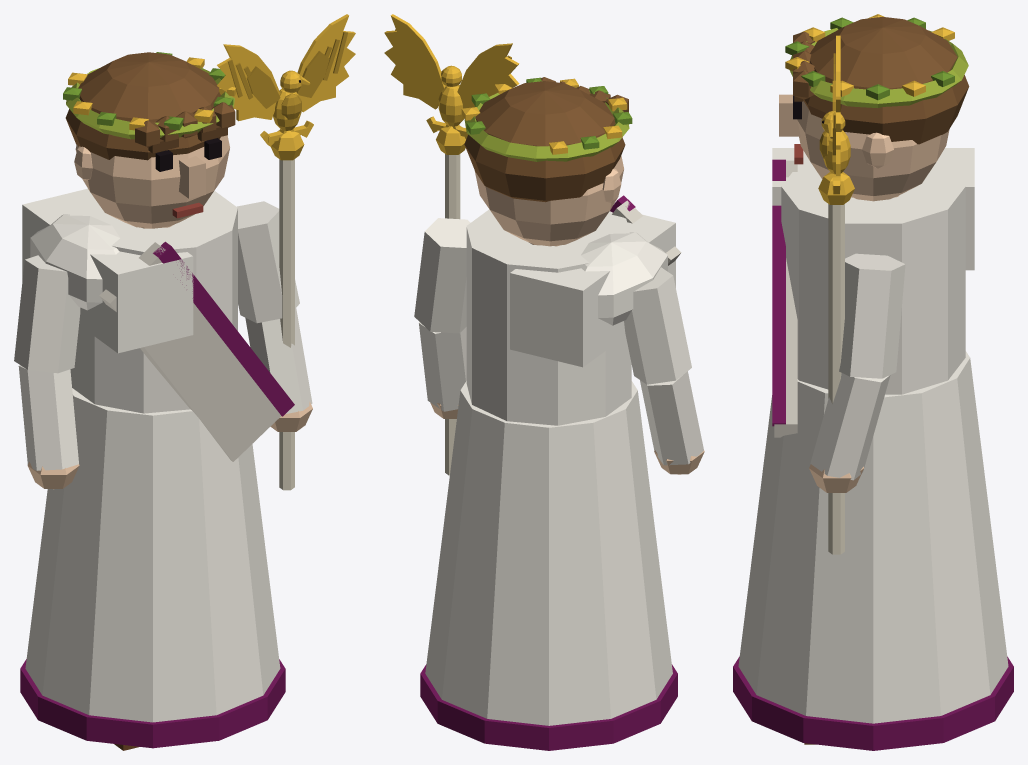
Rendered from august.glb.
3 views of the same model, side by side, from view 1: azimuth 30°, elevation 25°; view 2: azimuth 150°, elevation 25°; view 3: azimuth 270°, elevation 25° (orthographic). The views are drawn at different scales.
Parts seen in each view (by area): view 1: cialo, glowa, reka_p, reka_l; view 2: cialo, glowa, reka_p, reka_l; view 3: cialo, glowa, reka_p.
Part boxes in pixels (x1,y1,x2,y2): cialo: [20, 188, 294, 748]; glowa: [63, 52, 236, 228]; reka_p: [217, 14, 355, 490]; reka_l: [14, 255, 80, 489]; cialo: [420, 195, 681, 750]; glowa: [461, 77, 632, 246]; reka_p: [384, 14, 519, 475]; reka_l: [624, 267, 704, 474]; cialo: [733, 148, 1013, 750]; glowa: [779, 14, 969, 201]; reka_p: [809, 35, 905, 554].
Bounding box in the file's own units: 0.858 × 1.69 × 0.61.
